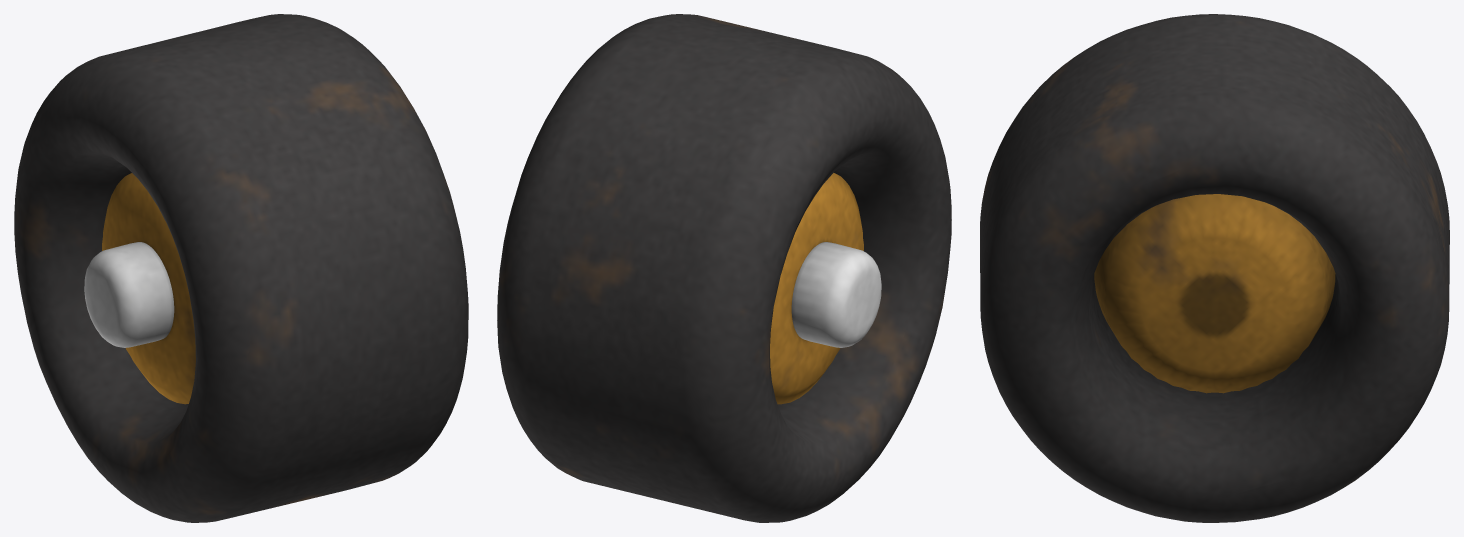
3 renders of one model, left to right at view 1: azimuth 30°, elevation 25°; view 2: azimuth 150°, elevation 25°; view 3: azimuth 270°, elevation 25°, orthographic. The views are drawn at different scales.
Parts seen in each view (by area): view 1: wheel_RR; view 2: wheel_RR; view 3: wheel_RR.
Part boxes in pixels (x1=…): wheel_RR: x1=14, y1=14, x2=468, y2=522; wheel_RR: x1=497, y1=14, x2=951, y2=522; wheel_RR: x1=980, y1=14, x2=1449, y2=522.
Size of the model in its own units: 0.2587 by 0.3989 by 0.3988.
1 material, 1 textured.
